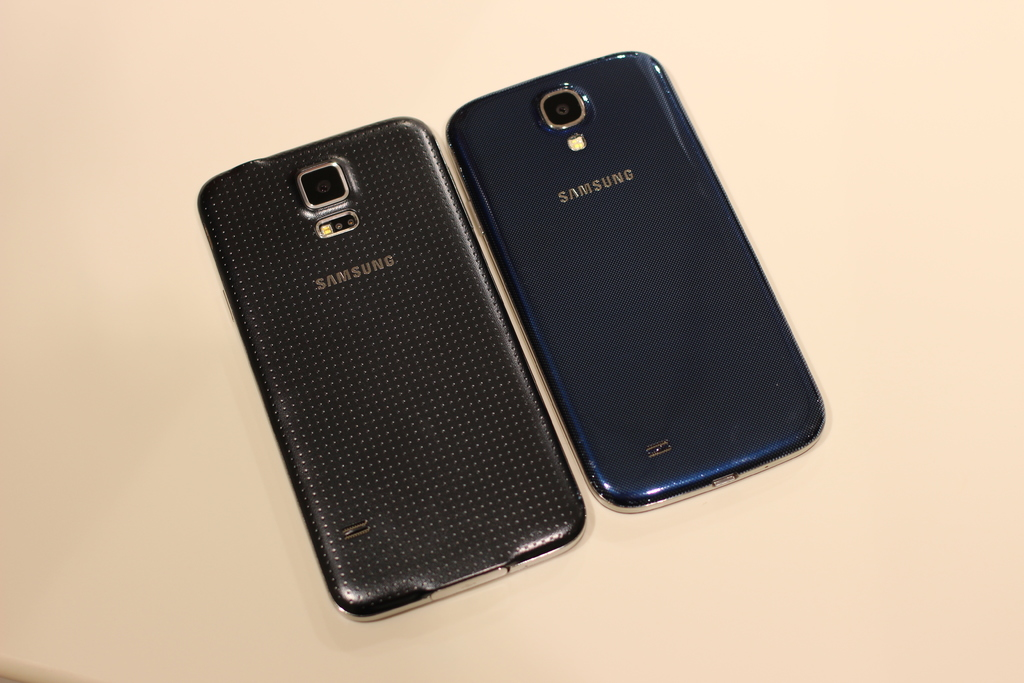Mobile-phone: (191, 111, 589, 631), (445, 47, 826, 514)
